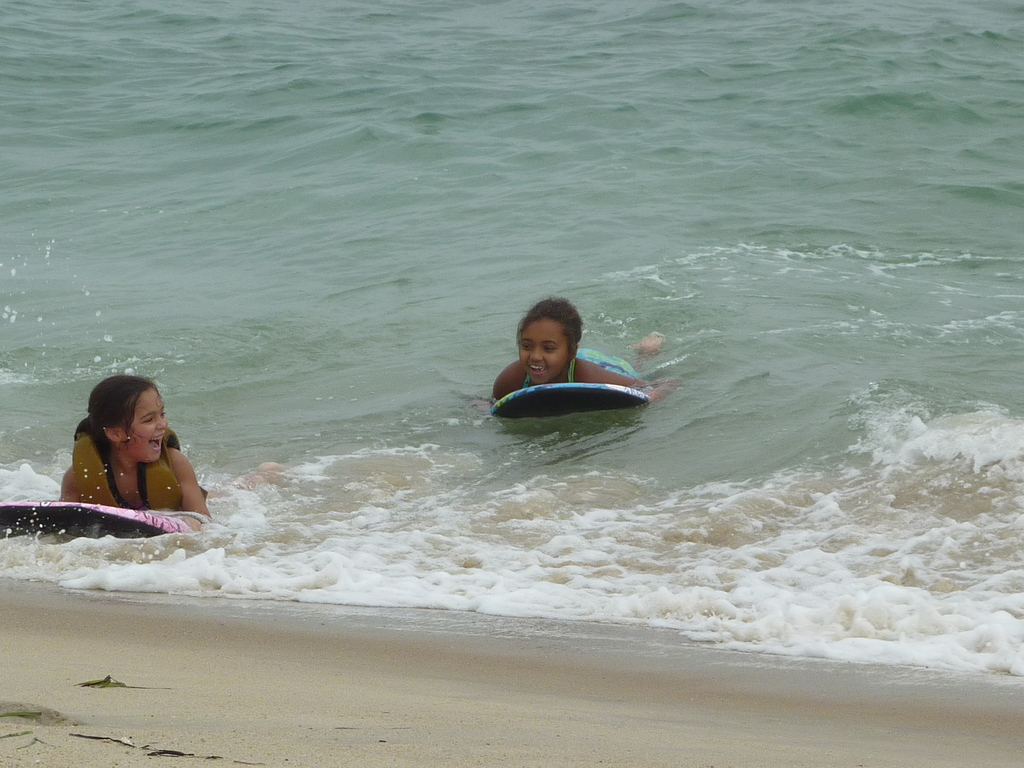Person: (487, 296, 689, 445)
